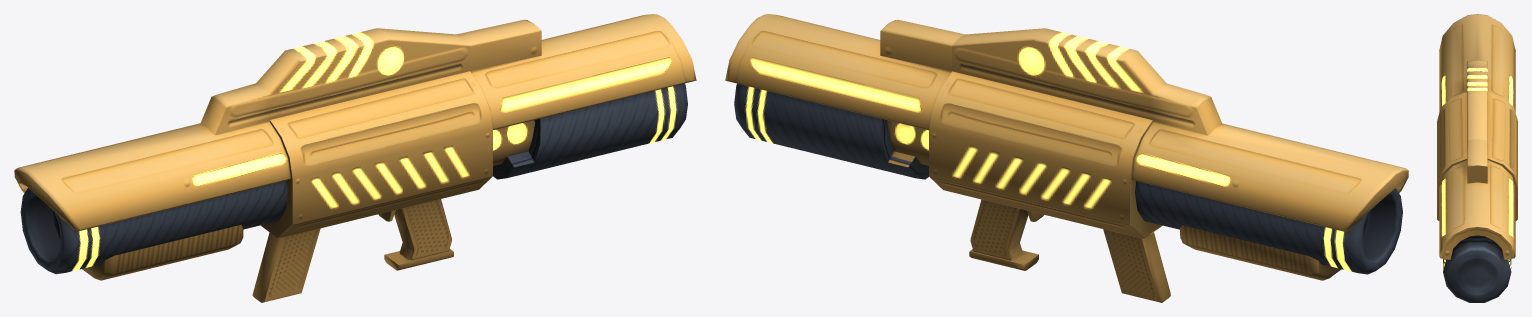
The model's file is RocketLauncher.fbx.
3 views of the same model, side by side, from view 1: azimuth 30°, elevation 25°; view 2: azimuth 150°, elevation 25°; view 3: azimuth 270°, elevation 25° (orthographic). The views are drawn at different scales.
Visible parts, largest first — view 1: rocket launcher; view 2: rocket launcher; view 3: rocket launcher.
Part boxes in pixels (x1,y1,x2,y2): rocket launcher: (14, 14, 696, 302); rocket launcher: (725, 14, 1408, 302); rocket launcher: (1437, 14, 1517, 302).
Size of the model in its own units: 104 by 36.66 by 16.59.
